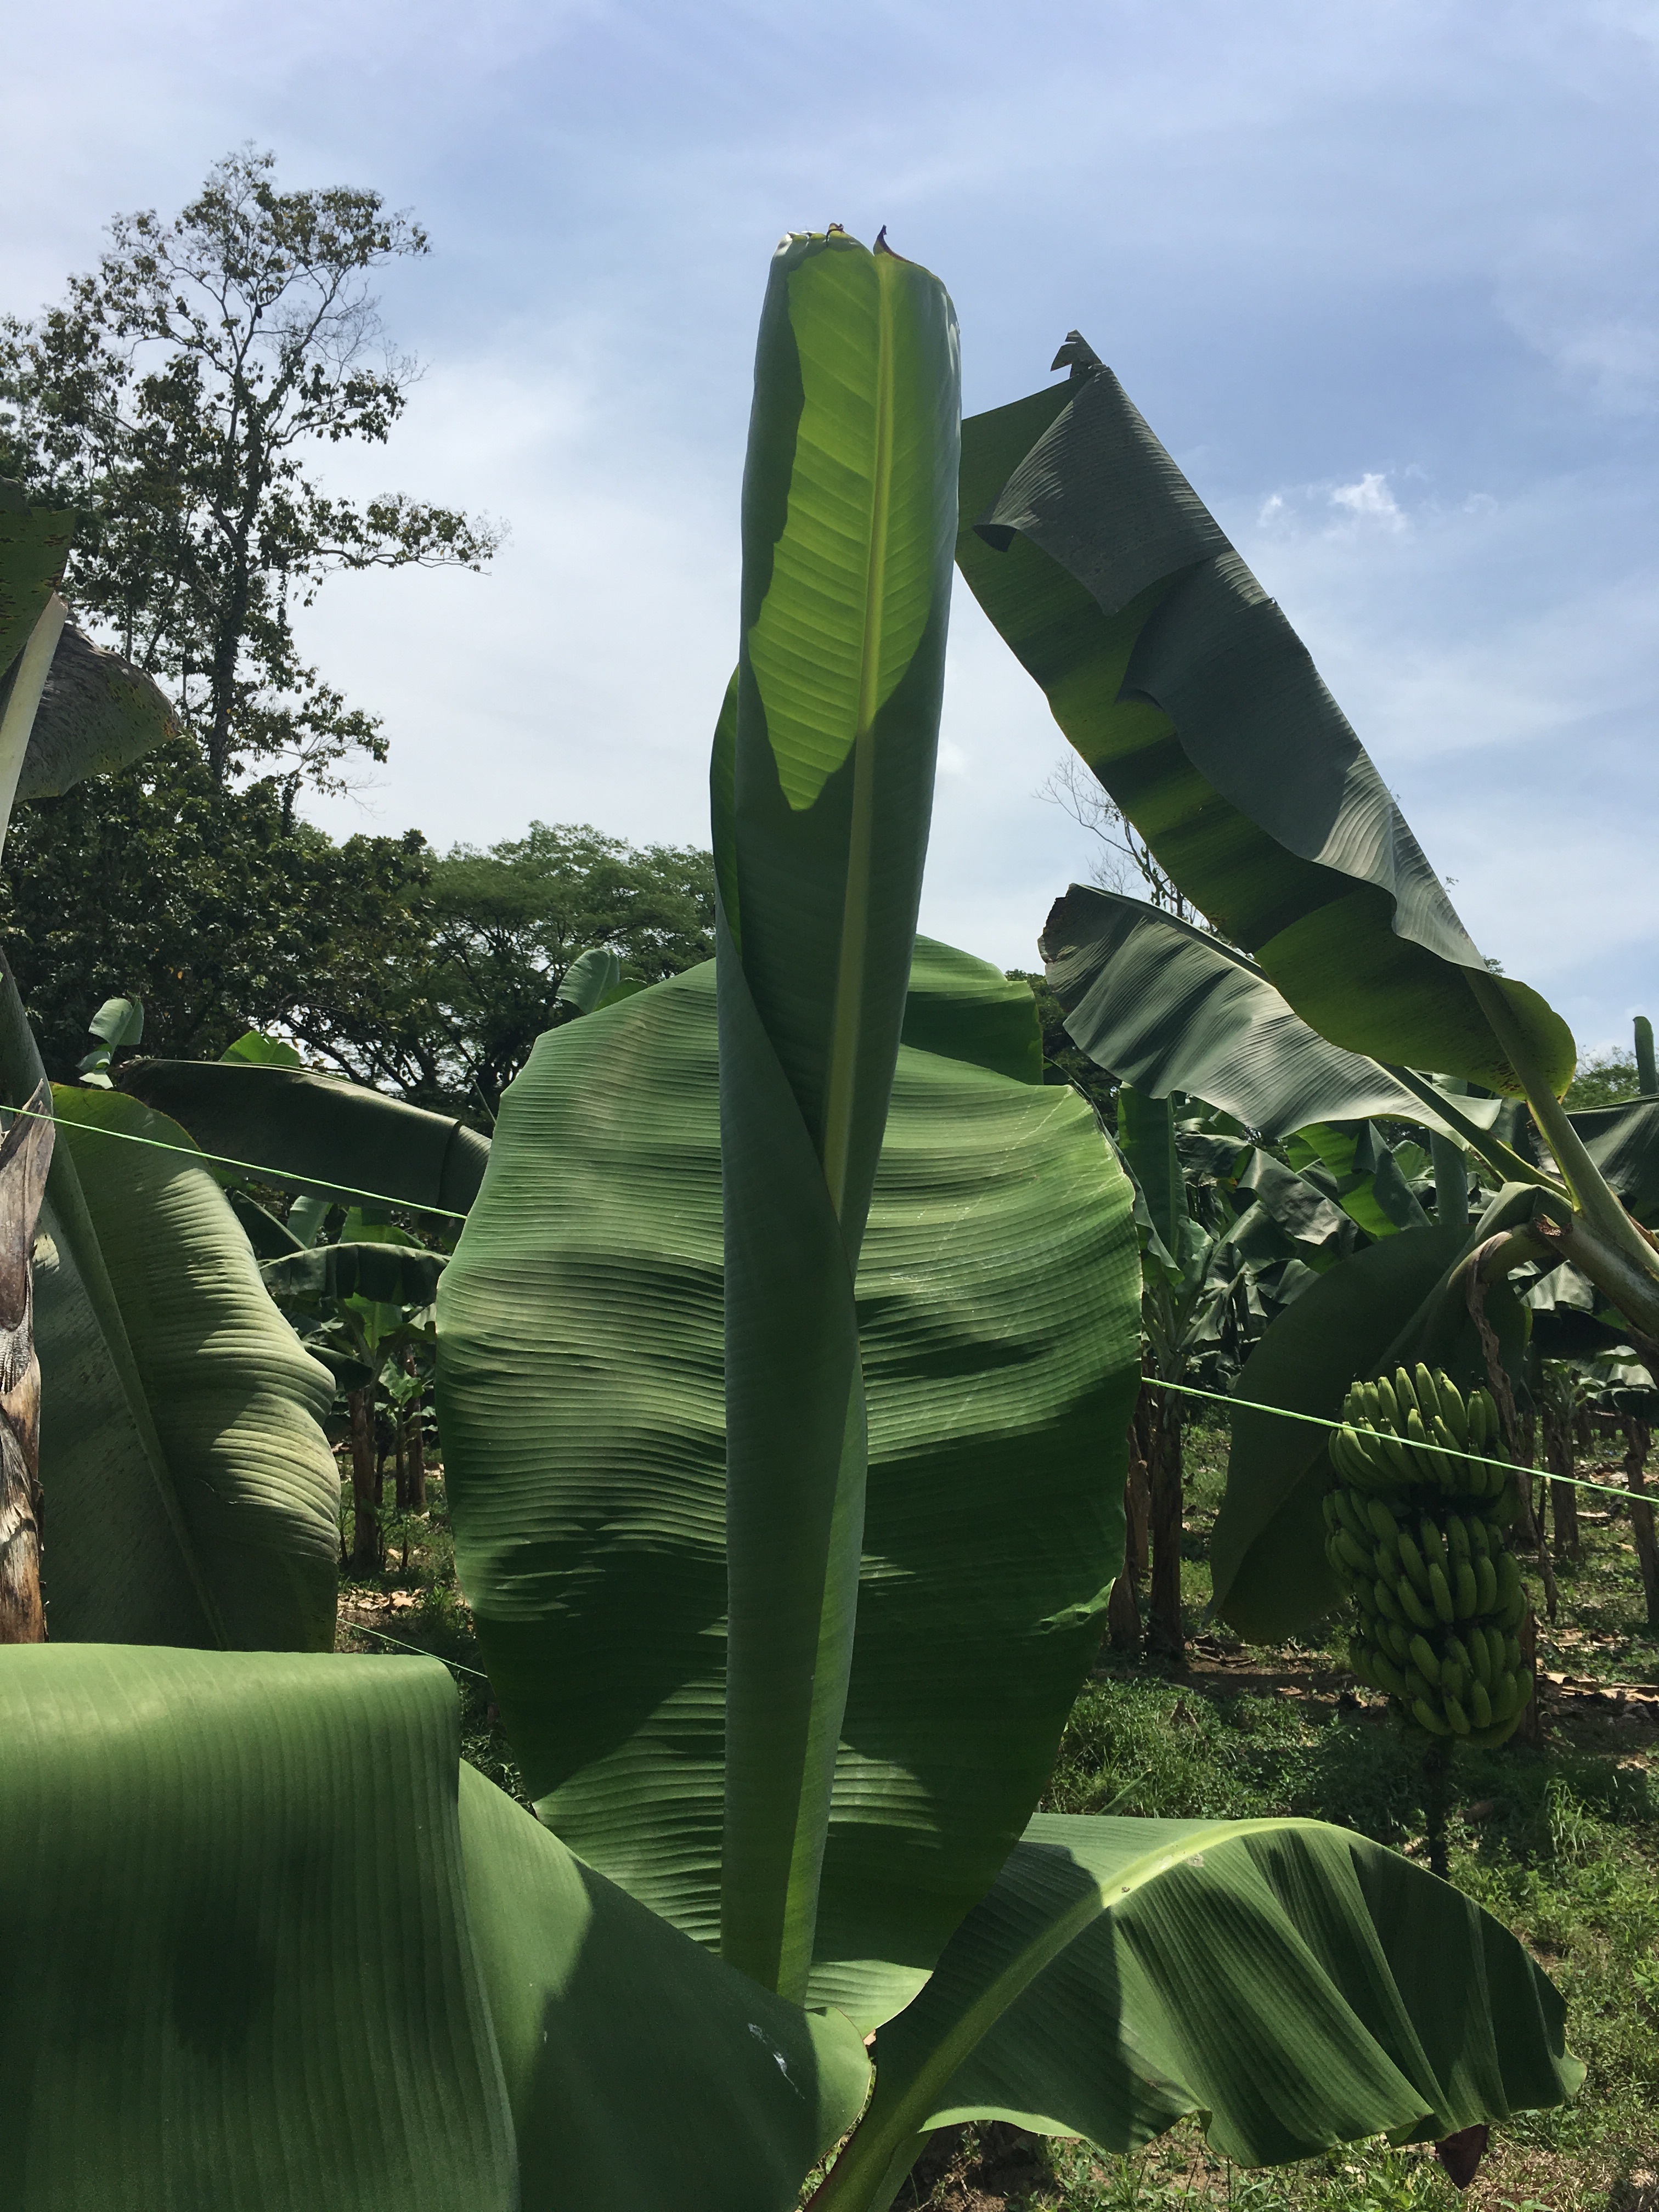candleleafs: (709, 228, 964, 1966)
